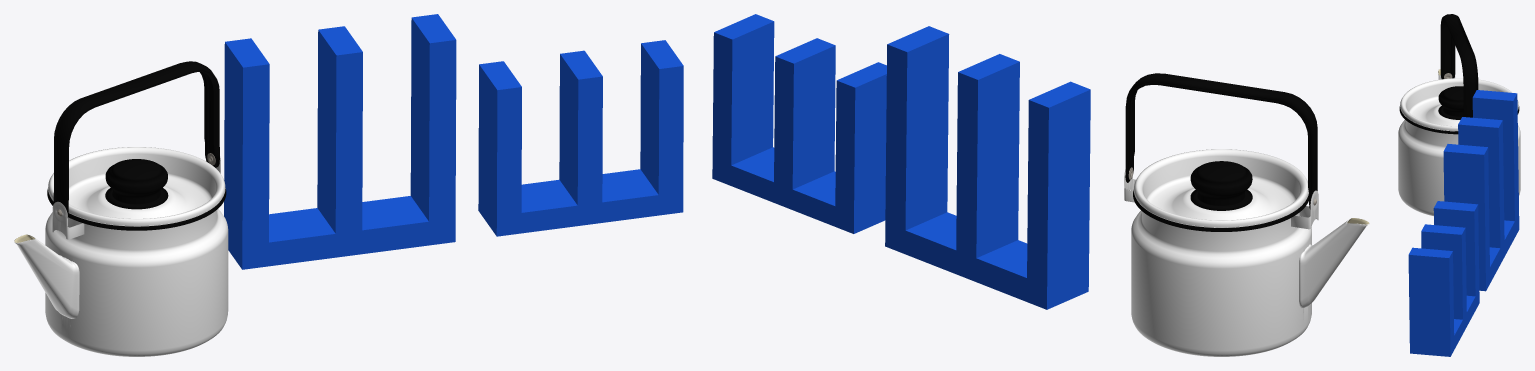
3 views of the same model, side by side, from view 1: azimuth 30°, elevation 25°; view 2: azimuth 150°, elevation 25°; view 3: azimuth 270°, elevation 25° (orthographic). The views are drawn at different scales.
Parts seen in each view (by area): view 1: Mesh_0.030, Chaynik, Chaynik-Krishka, Chaynik-Ruchka; view 2: Mesh_0.030, Chaynik, Chaynik-Krishka, Chaynik-Ruchka; view 3: Mesh_0.030, Chaynik, Chaynik-Krishka, Chaynik-Ruchka.
Part boxes in pixels (left/top/right/bottom): Mesh_0.030: left=224, top=14, right=683, bottom=269; Chaynik: left=14, top=157, right=228, bottom=356; Chaynik-Krishka: left=48, top=147, right=225, bottom=226; Chaynik-Ruchka: left=53, top=61, right=219, bottom=217; Mesh_0.030: left=712, top=14, right=1090, bottom=309; Chaynik: left=1124, top=169, right=1369, bottom=356; Chaynik-Krishka: left=1134, top=149, right=1308, bottom=227; Chaynik-Ruchka: left=1125, top=73, right=1317, bottom=209; Mesh_0.030: left=1408, top=90, right=1519, bottom=356; Chaynik: left=1398, top=69, right=1520, bottom=216; Chaynik-Krishka: left=1400, top=78, right=1518, bottom=131; Chaynik-Ruchka: left=1440, top=14, right=1478, bottom=117.
Size of the model in its own units: 40.85 by 14.28 by 9.84.
